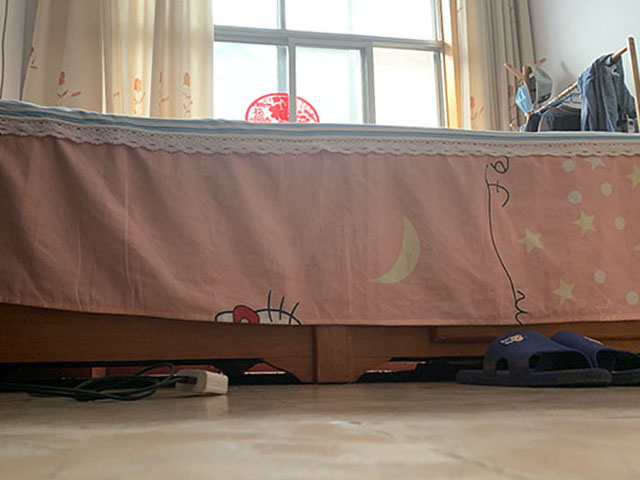bed: (1, 97, 640, 388)
slippers: (455, 330, 614, 389)
wire: (24, 363, 230, 403)
